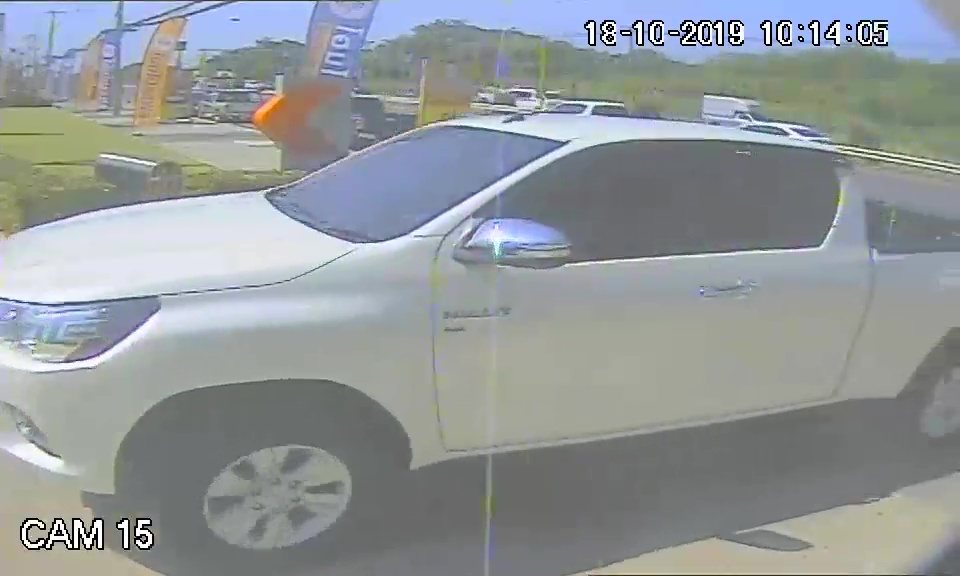pickup: (1, 110, 960, 503)
